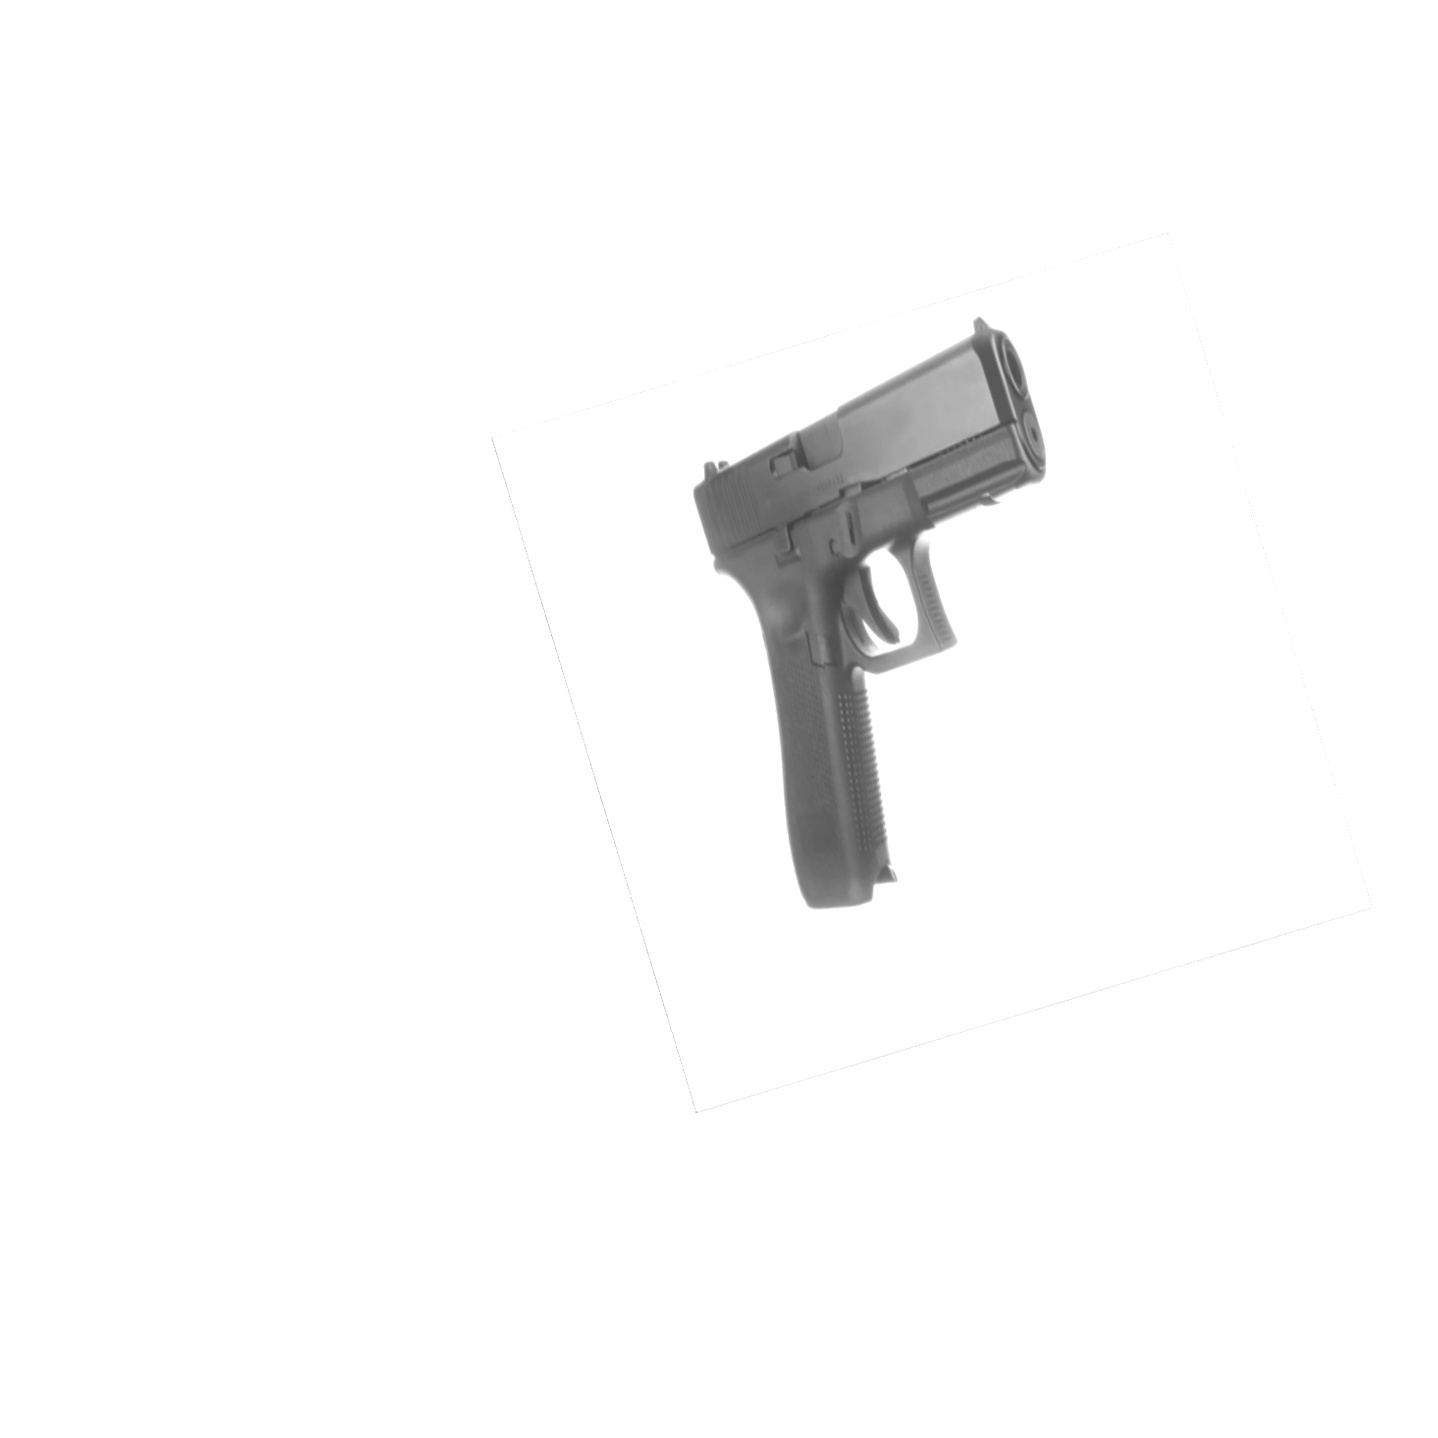gun: (679, 309, 1060, 917)
